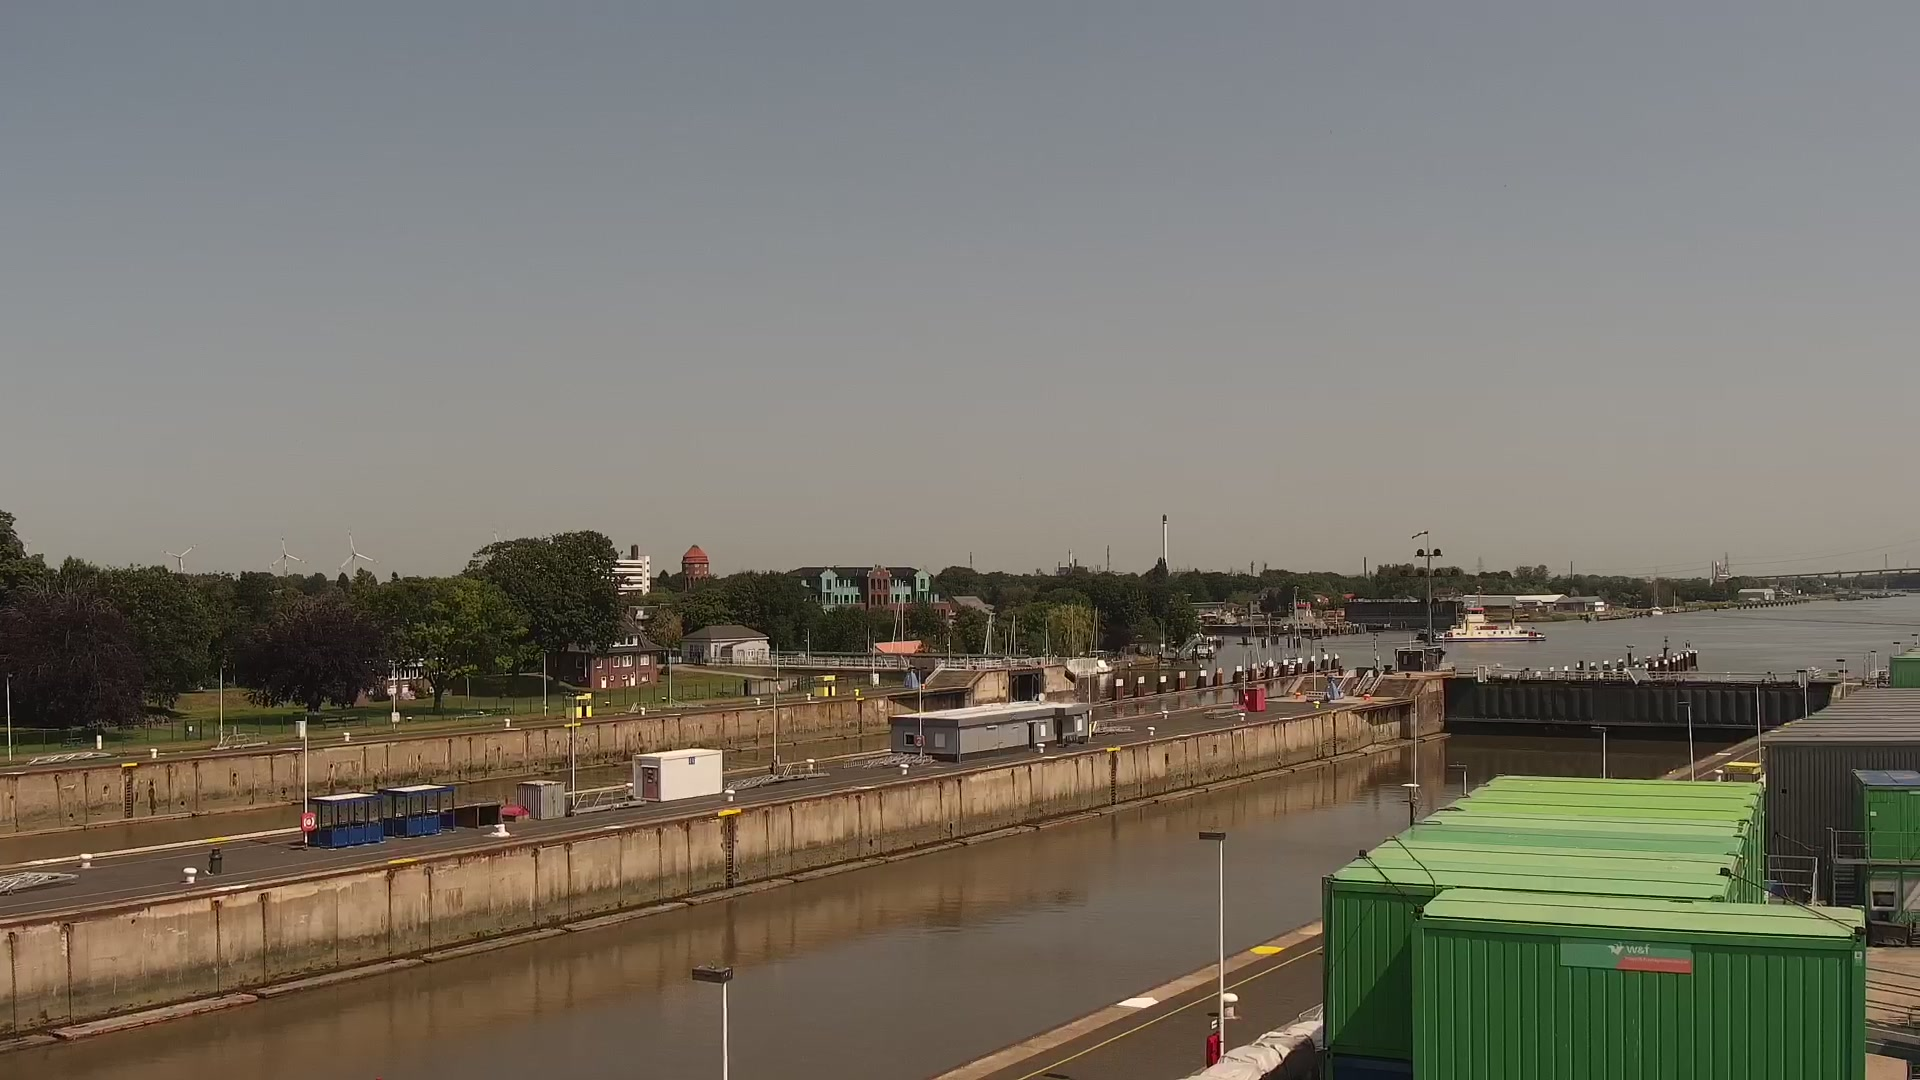sea: (1425, 597, 1545, 642), (1280, 588, 1329, 636), (1646, 579, 1664, 616), (1668, 588, 1679, 613)
